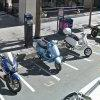Motorcycle: (27, 32, 95, 72)
